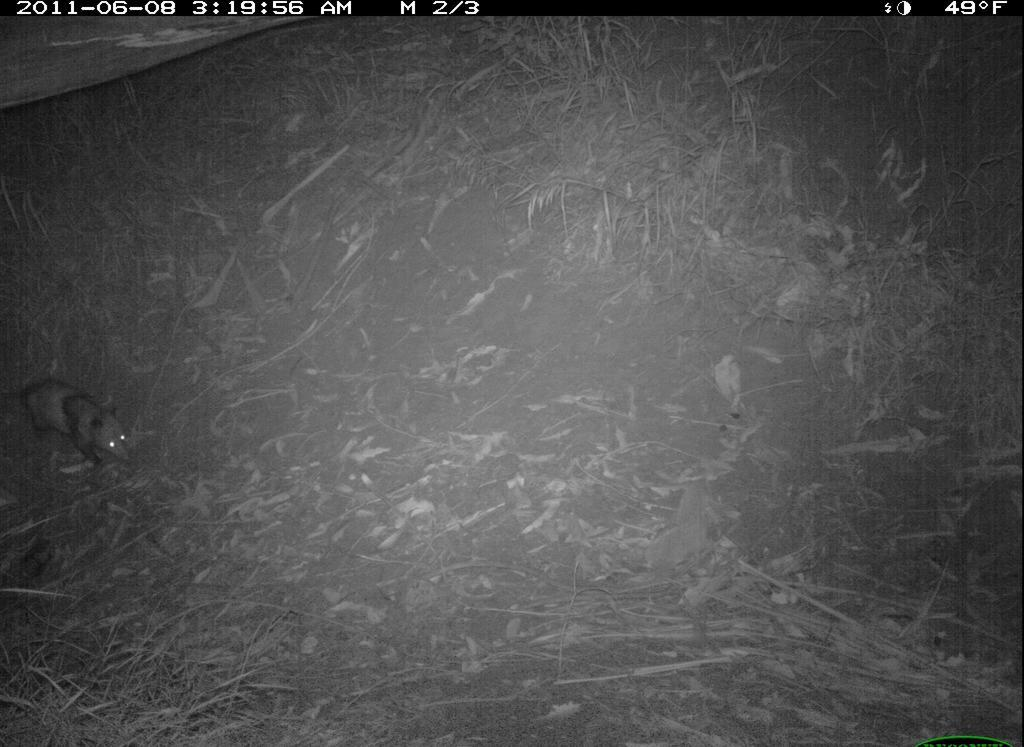opossum: (2, 369, 143, 475)
